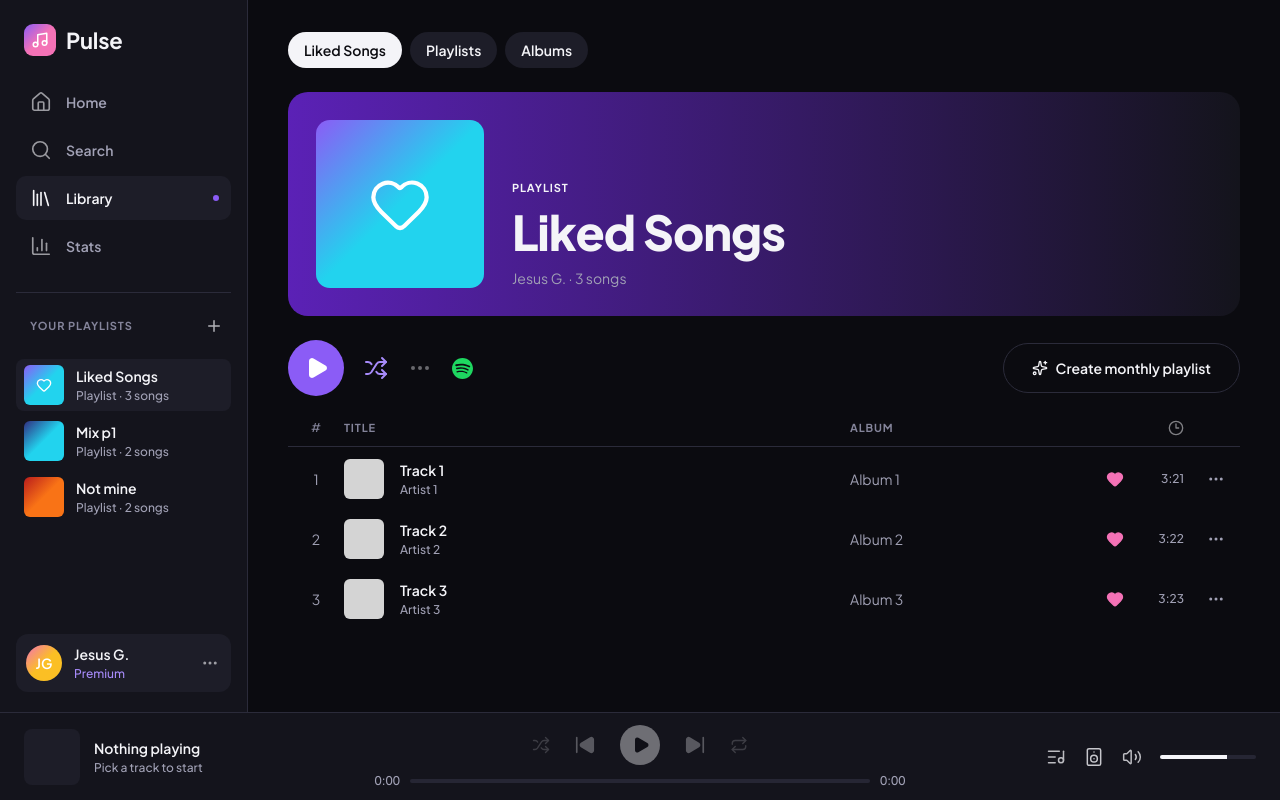
LibraryPage · Liked Songs › rolls the row back when unliking fails
Step 1. Click the button named "Remove Track 2 from Liked Songs" → (1115, 539), box [1106,530,1124,548]
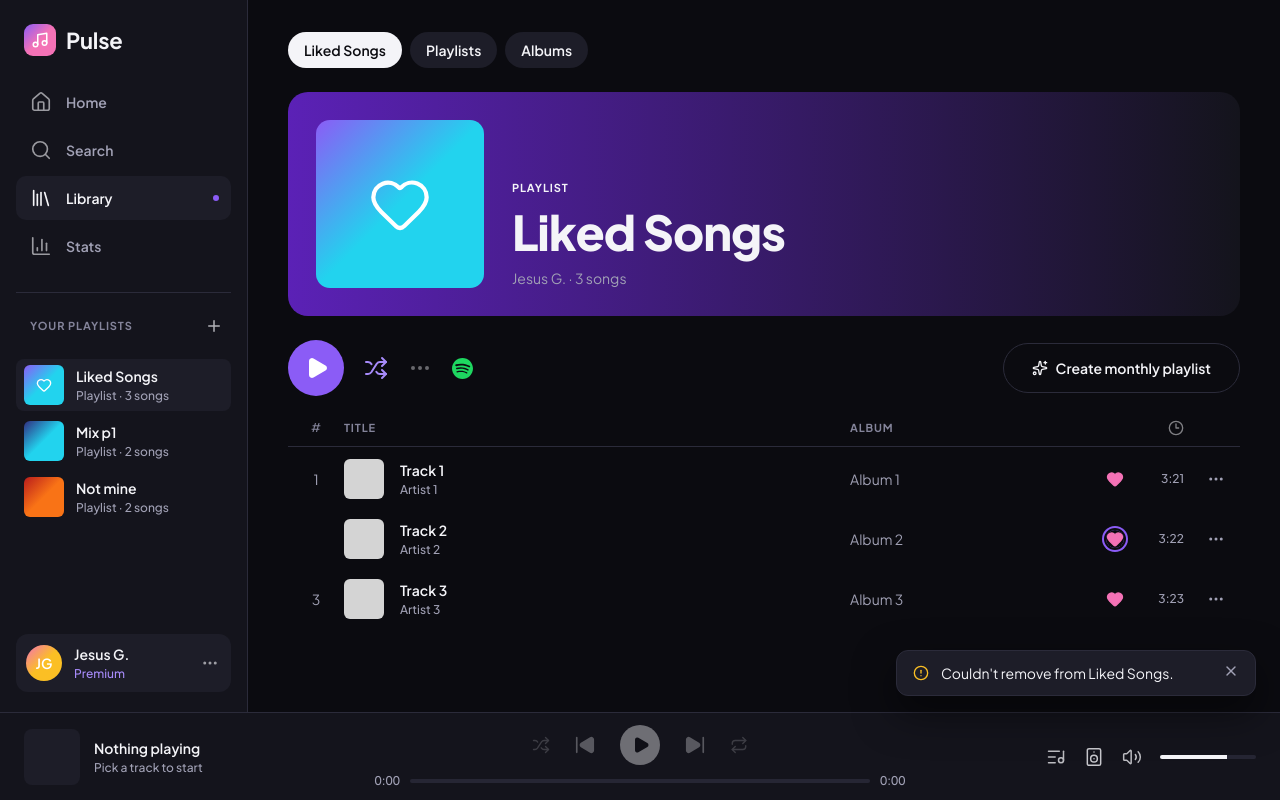
Check: the text "Track 2" is shown, box [400,521,447,539]
Check: the text "Couldn't remove from Liked Songs." is shown, box [941,663,1211,683]
